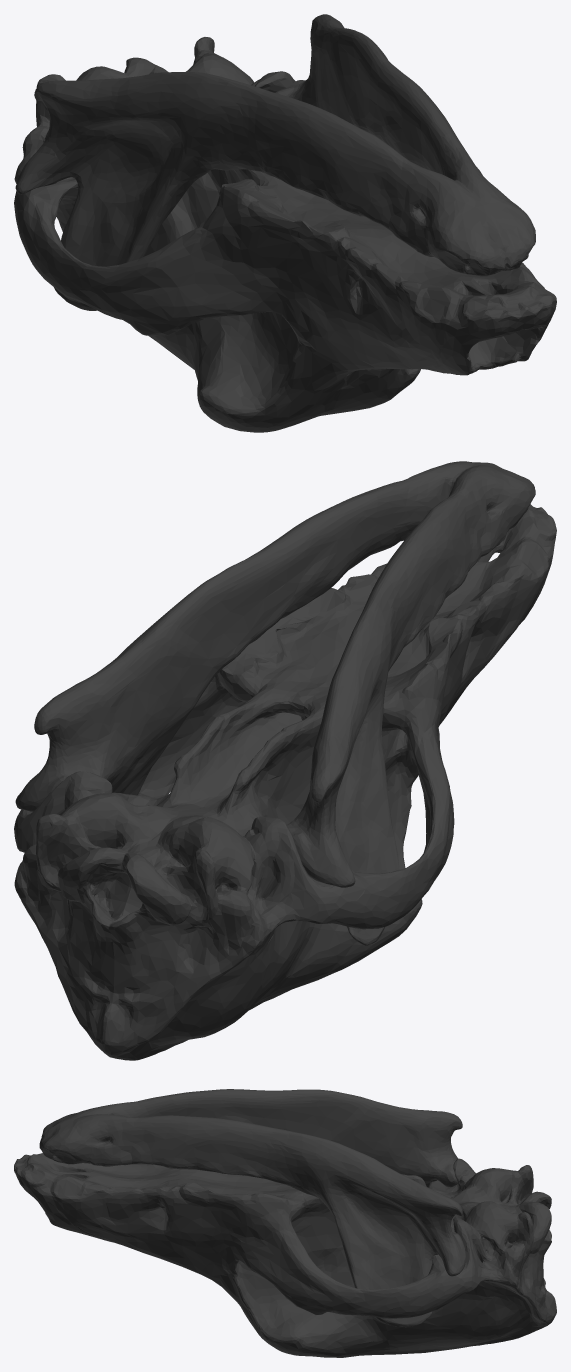
File: b_skull.glb
The picture shows the model from 3 angles, top to bottom: view 1: azimuth 30°, elevation 25°; view 2: azimuth 150°, elevation 25°; view 3: azimuth 270°, elevation 25°; orthographic projection. The views are drawn at different scales.
Parts seen in each view (by area): view 1: b_skull; view 2: b_skull; view 3: b_skull.
Boxes of the visible parts, x1,y1,x2,y2 form: b_skull: [14, 14, 556, 432]; b_skull: [14, 461, 556, 1060]; b_skull: [14, 1089, 556, 1357].
Bounding box in the file's own units: 0.00281 × 0.00289 × 0.00574.
Materials: 1 (1 with a texture image).
